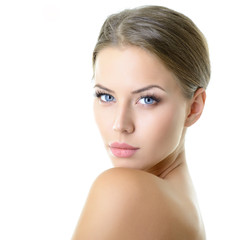young: (88, 27, 203, 168)
